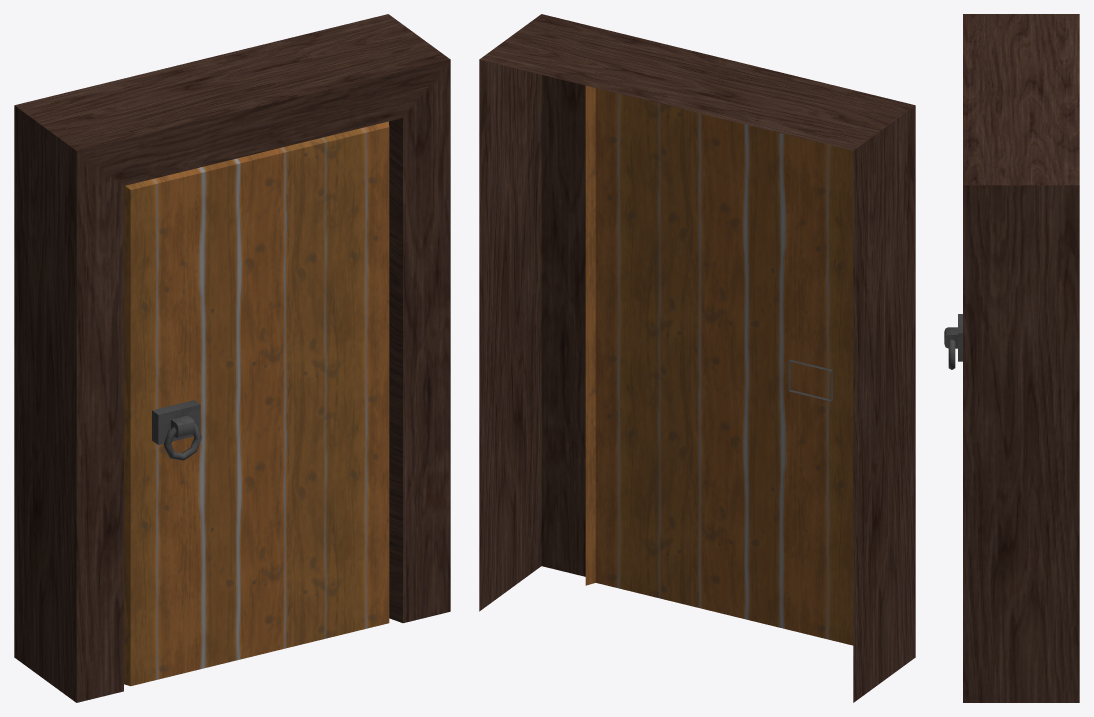
File: Module_Door_Square1.fbx
The picture shows the model from 3 angles, left to right: view 1: azimuth 30°, elevation 25°; view 2: azimuth 150°, elevation 25°; view 3: azimuth 270°, elevation 25°; orthographic projection. The views are drawn at different scales.
Parts seen in each view (by area): view 1: Module_Door_Square1; view 2: Module_Door_Square1; view 3: Module_Door_Square1.
Part boxes in pixels (x1,y1,x2,y2): Module_Door_Square1: (14,14,450,702); Module_Door_Square1: (479,14,915,702); Module_Door_Square1: (944,14,1079,702).
Bounding box in the file's own units: 140 × 197 × 46.78.
